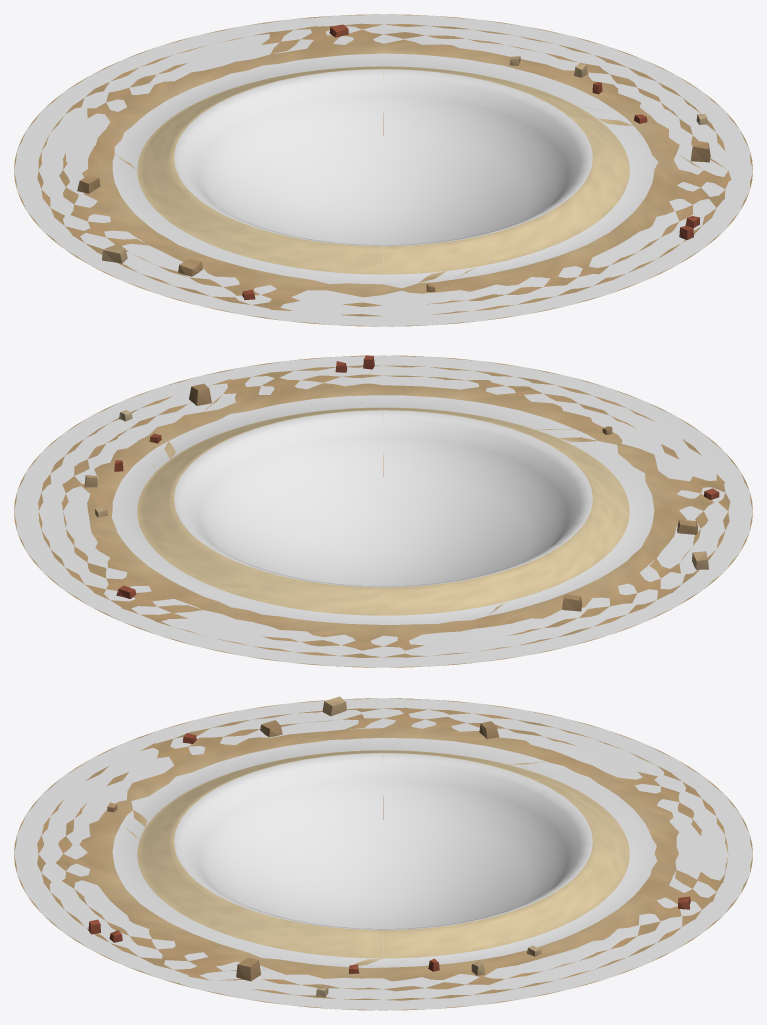
The model's file is crater_event.glb.
3 renders of one model, top to bottom at view 1: azimuth 30°, elevation 25°; view 2: azimuth 150°, elevation 25°; view 3: azimuth 270°, elevation 25°, orthographic.
Visible parts, largest first — view 1: crater_event-col-col, Bowl; view 2: crater_event-col-col, Bowl; view 3: crater_event-col-col, Bowl.
Part boxes in pixels (x1,y1,x2,y2): crater_event-col-col: [14, 14, 752, 326]; Bowl: [14, 14, 752, 326]; crater_event-col-col: [14, 355, 752, 667]; Bowl: [14, 355, 752, 667]; crater_event-col-col: [14, 698, 752, 1010]; Bowl: [14, 696, 752, 1010].
Bounding box in the file's own units: 84 × 9.92 × 84.
